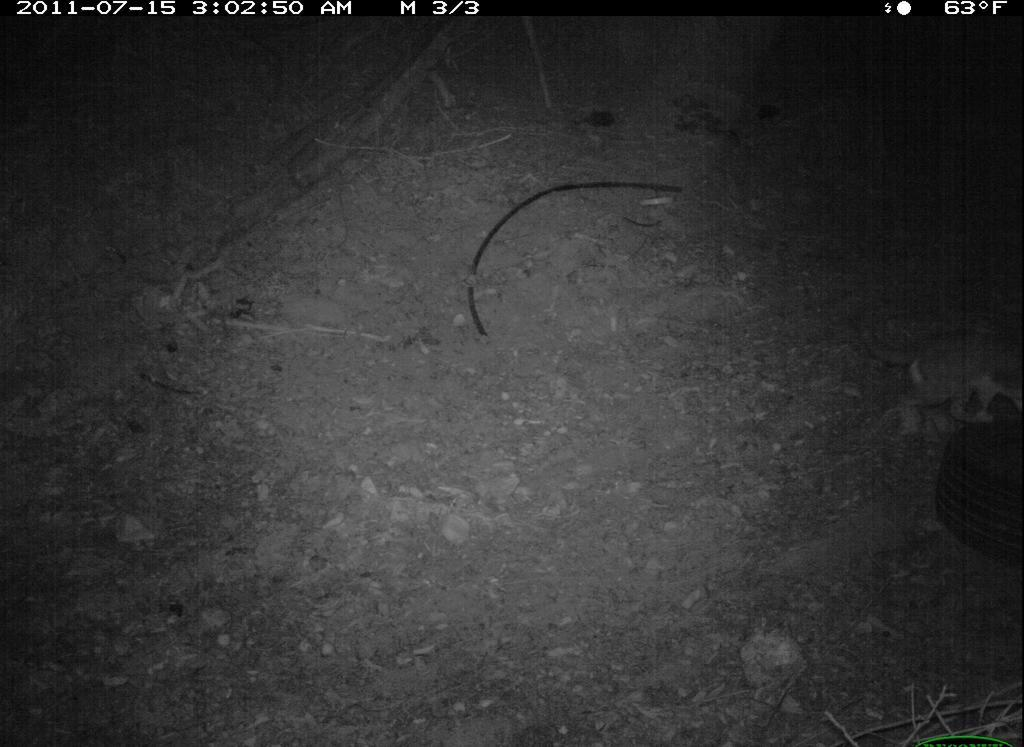cat: (840, 310, 1018, 452)
